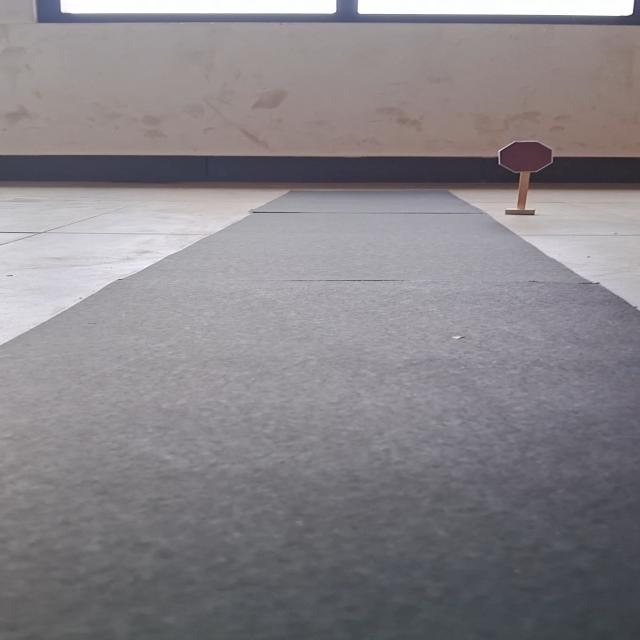Stop: (497, 140, 555, 173)
